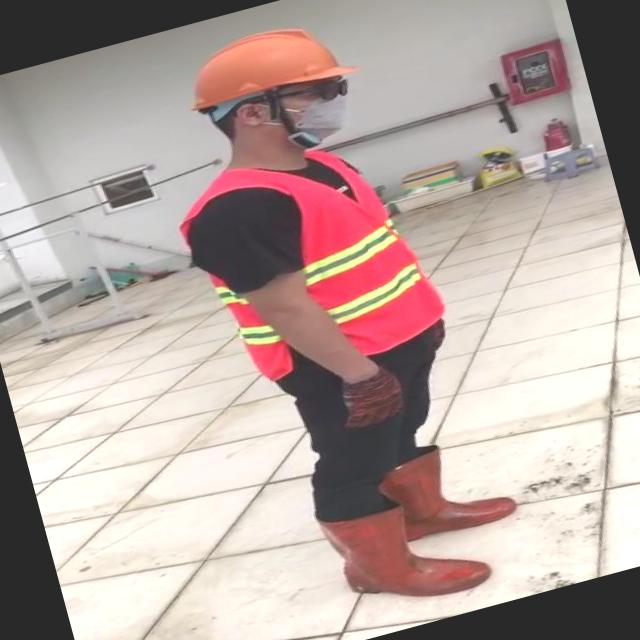boots: (320, 479, 493, 622), (377, 433, 520, 547)
helmet: (168, 10, 365, 125)
vest: (167, 124, 450, 392)
